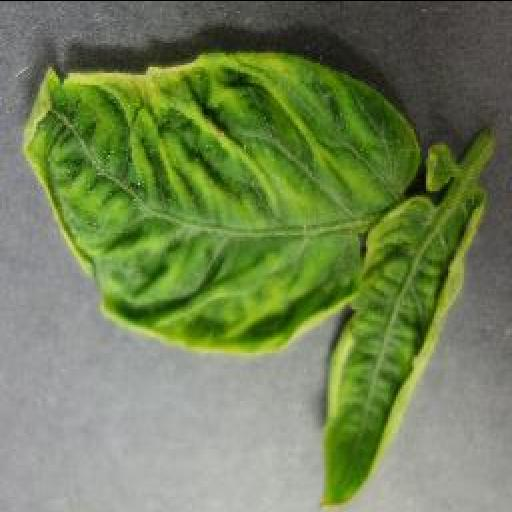disease_tomato: (18, 52, 486, 510)
